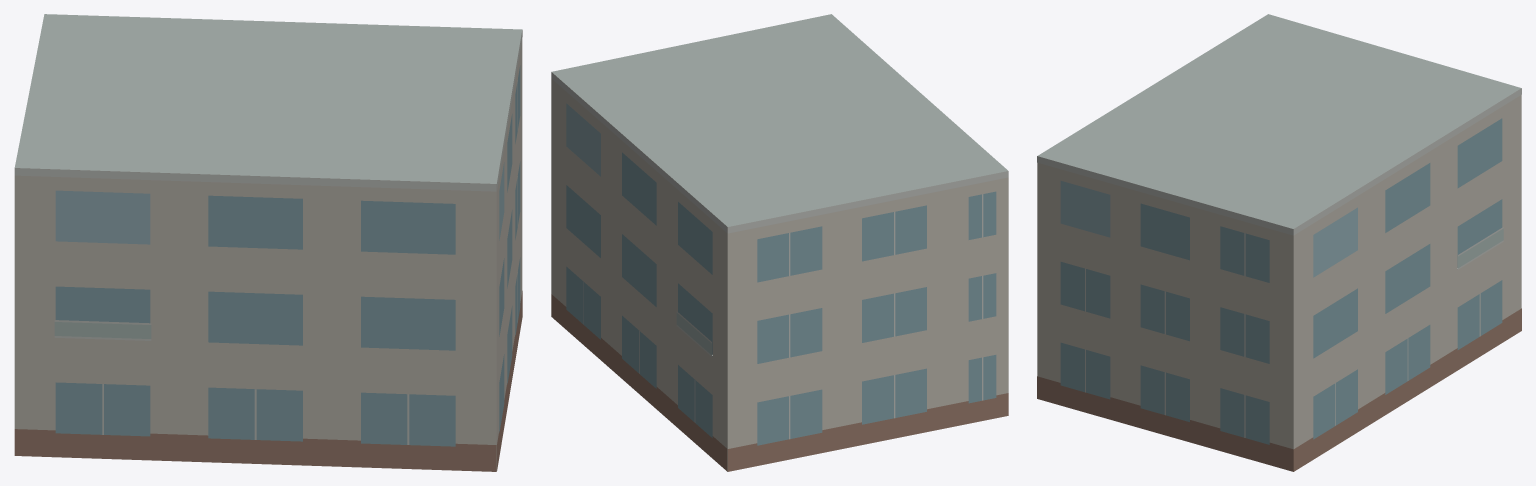
Rendered from survey-upis-32905558.glb.
3 renders of one model, left to right at view 1: azimuth 30°, elevation 25°; view 2: azimuth 150°, elevation 25°; view 3: azimuth 270°, elevation 25°, orthographic. The views are drawn at different scales.
Visible parts, largest first — view 1: survey-upis-32905558.tmp; view 2: survey-upis-32905558.tmp; view 3: survey-upis-32905558.tmp.
Part boxes in pixels (x1=…): survey-upis-32905558.tmp: x1=14, y1=14, x2=522, y2=471; survey-upis-32905558.tmp: x1=551, y1=14, x2=1008, y2=471; survey-upis-32905558.tmp: x1=1037, y1=14, x2=1521, y2=471.
Bounding box in the file's own units: 17.4 × 9.15 × 16.56.
